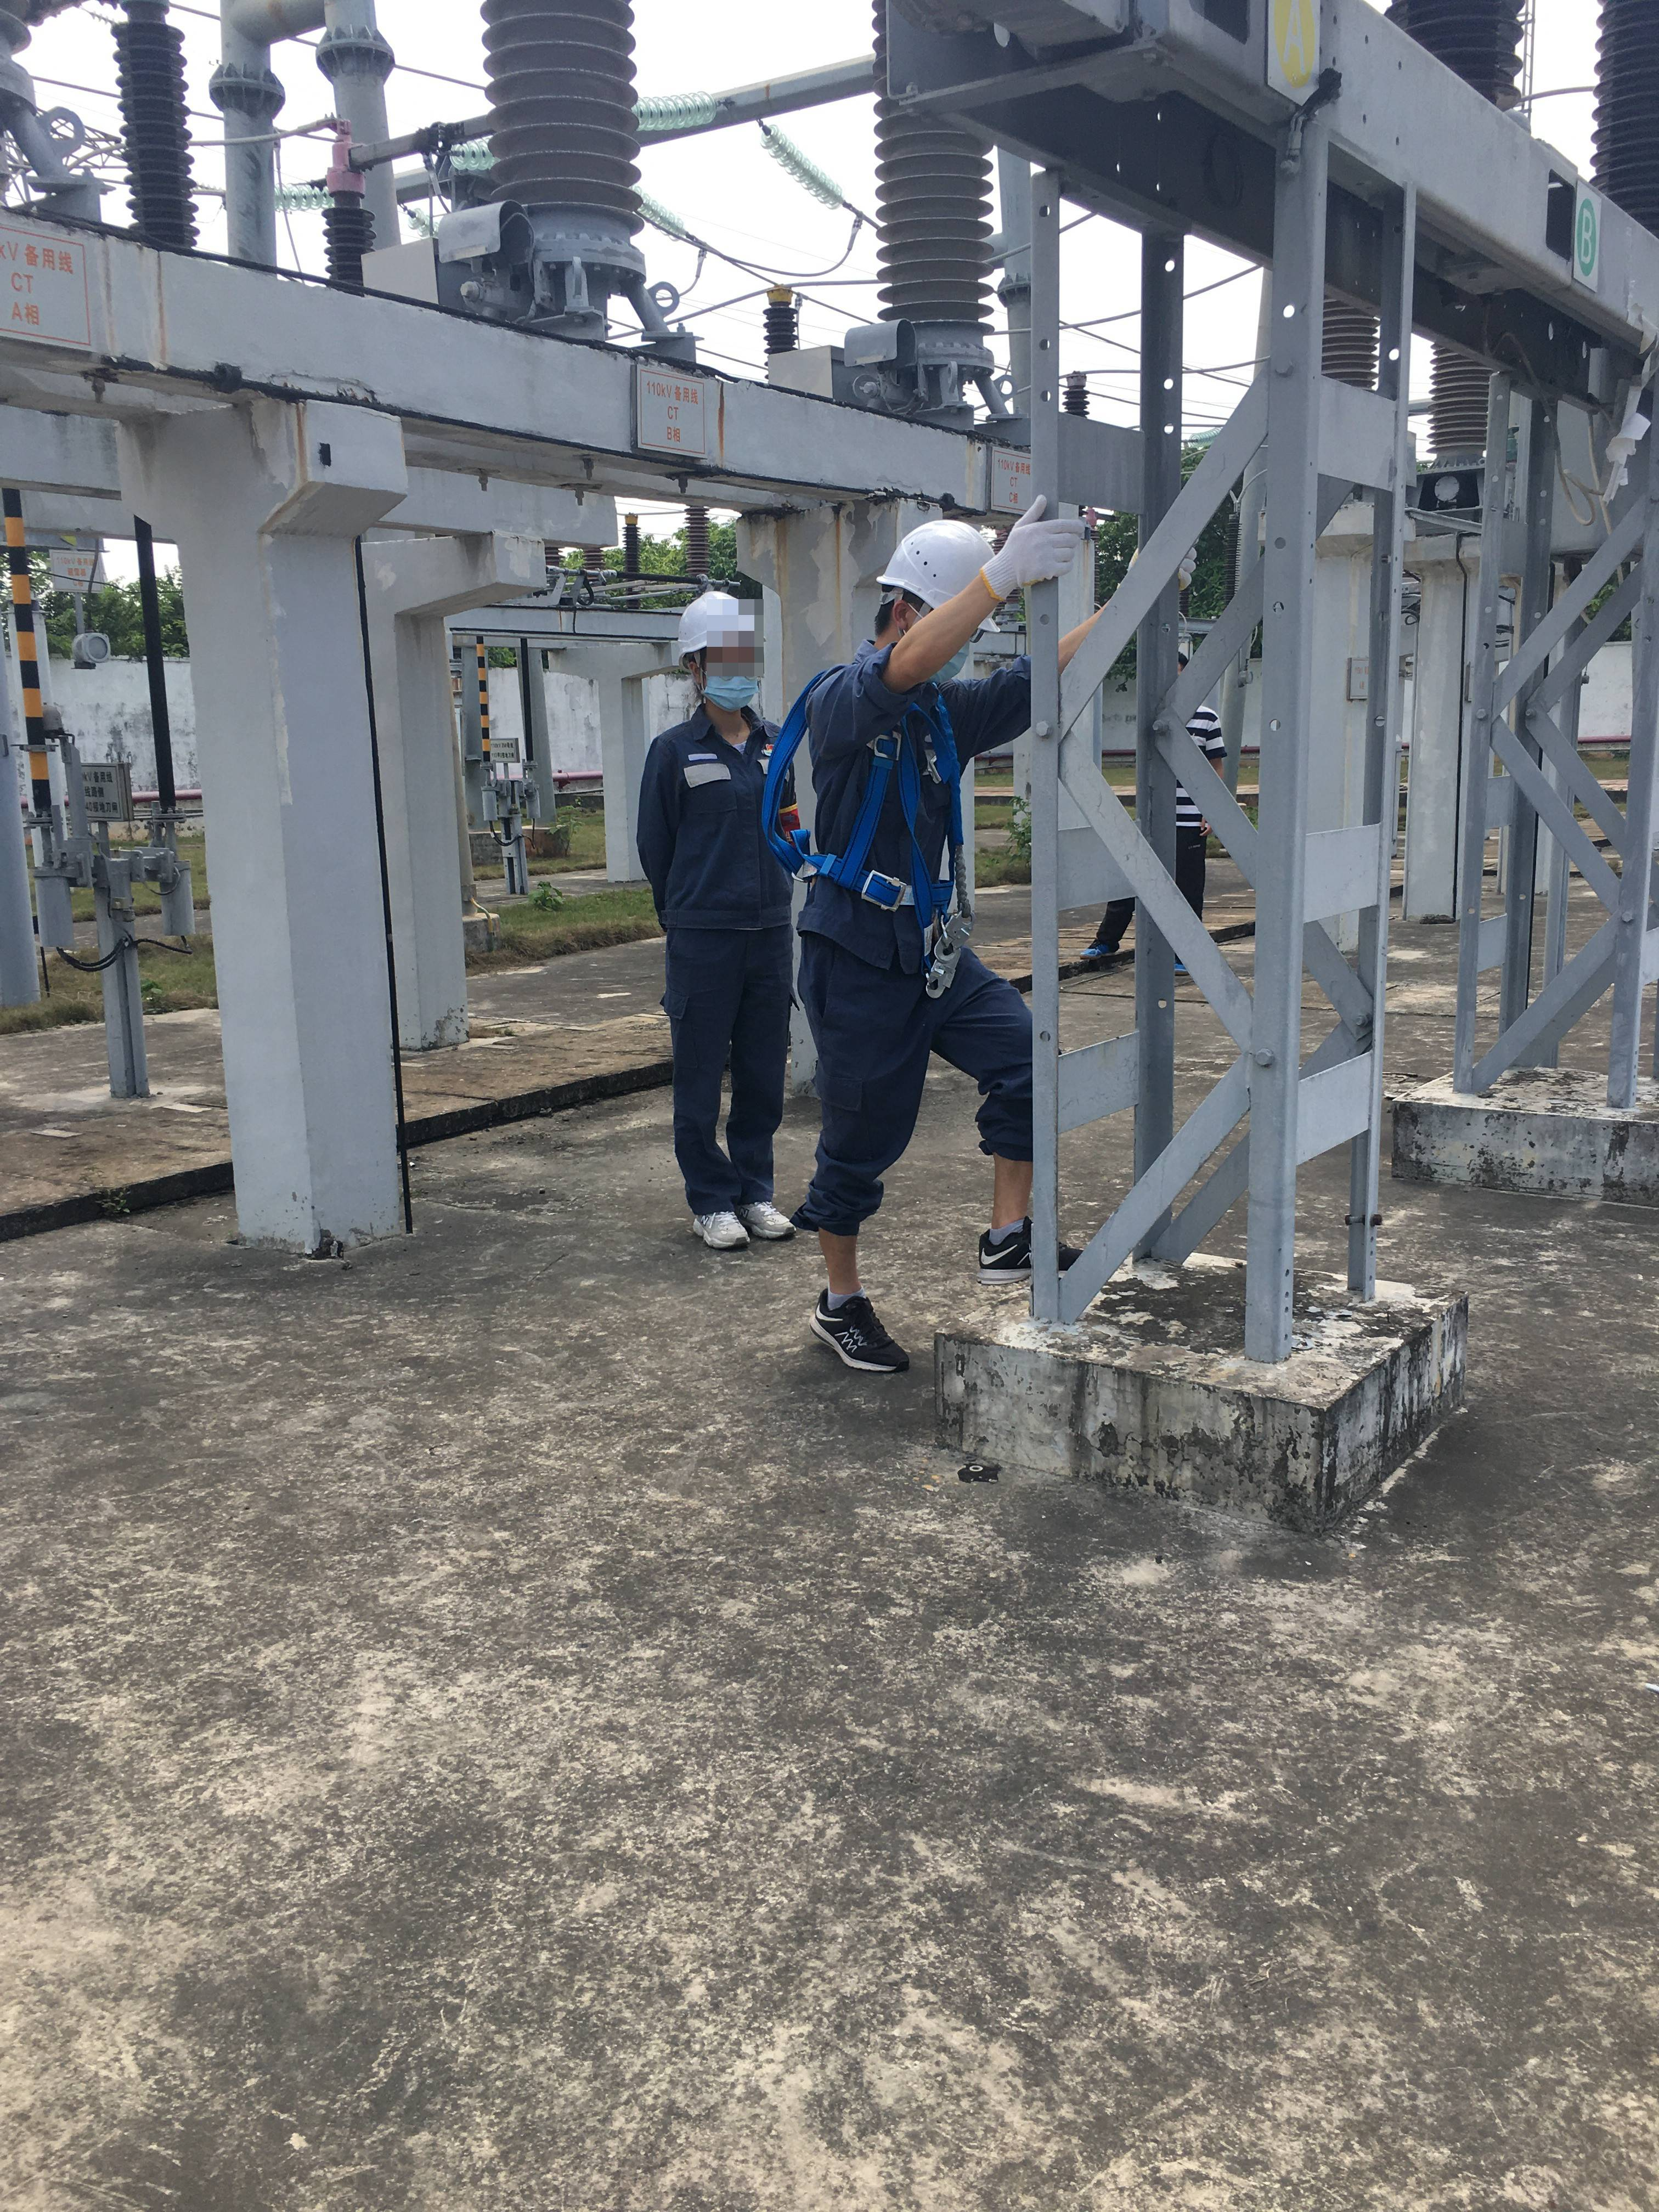downsuit: (816, 961, 1028, 1226), (657, 948, 795, 1207)
upsuit: (826, 678, 1033, 927), (647, 716, 800, 900)
wrongbottom: (809, 1169, 884, 1310), (981, 1101, 1039, 1233)
wrongtop: (836, 583, 979, 707)
